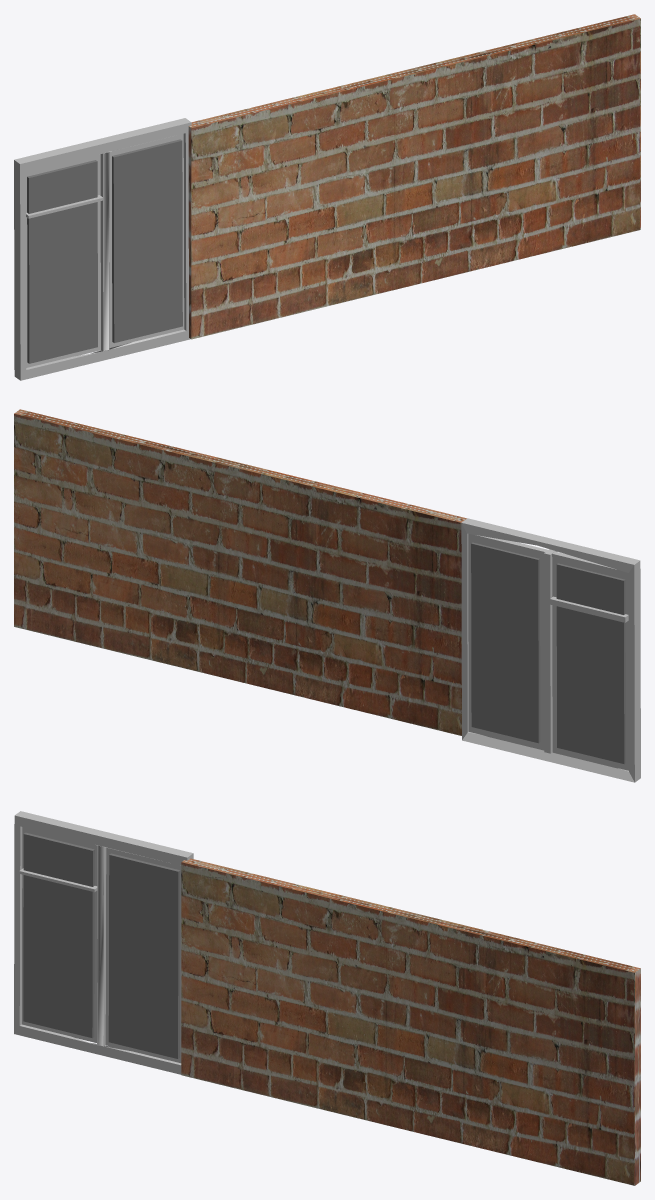
File: 3-Part_Window_w_Brickwall.FBX
The picture shows the model from 3 angles, top to bottom: view 1: azimuth 30°, elevation 25°; view 2: azimuth 150°, elevation 25°; view 3: azimuth 330°, elevation 25°; orthographic projection.
Parts seen in each view (by area): view 1: Box023, Plane002, Window_Frame, Window_Pane; view 2: Box023, Plane002, Window_Frame, Window_Pane; view 3: Box023, Plane002, Window_Frame, Window_Pane.
Boxes of the visible parts, x1=… form: Box023: x1=188, y1=14, x2=640, y2=339; Plane002: x1=27, y1=139, x2=182, y2=363; Window_Frame: x1=14, y1=118, x2=191, y2=380; Window_Pane: x1=25, y1=133, x2=184, y2=367; Box023: x1=14, y1=409, x2=466, y2=735; Plane002: x1=471, y1=542, x2=625, y2=763; Window_Frame: x1=461, y1=518, x2=640, y2=782; Window_Pane: x1=468, y1=534, x2=628, y2=770; Box023: x1=181, y1=858, x2=640, y2=1185; Plane002: x1=23, y1=832, x2=180, y2=1058; Window_Frame: x1=14, y1=811, x2=193, y2=1074; Window_Pane: x1=22, y1=827, x2=181, y2=1063.
Size of the model in its own units: 36.5 by 12.21 by 1.15.
3 materials, 1 textured.
